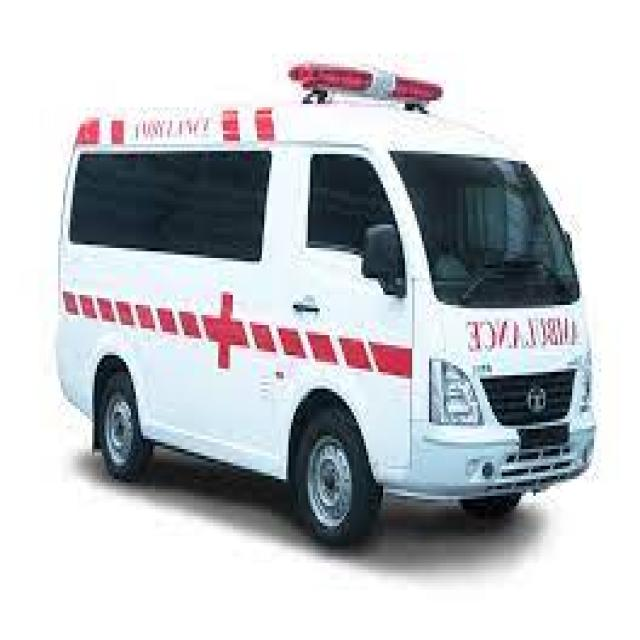ambulance: (52, 59, 597, 545)
